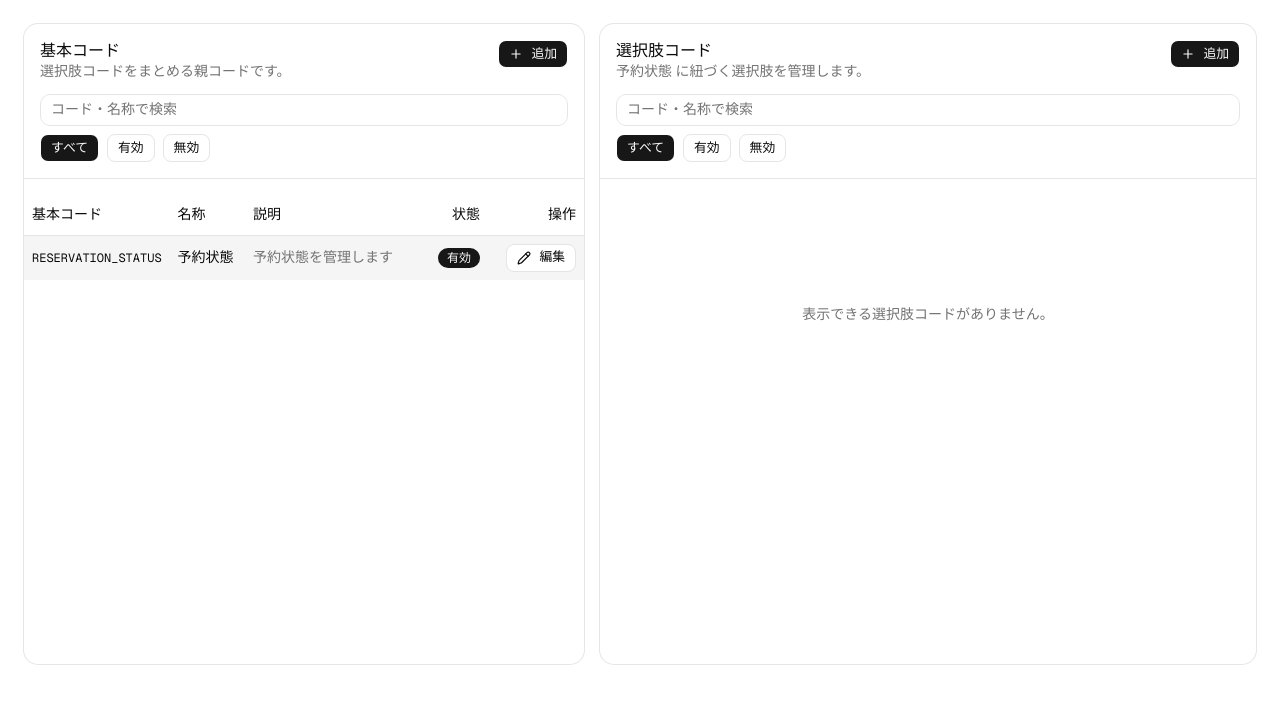
Scenario: StandardCodeMasterPage › 基本コードの保存に失敗すると、エラーを表示する
Expected: the text "予約状態" is shown, [178,248,237,268]
Step 1. Click the button "追加" in the row of "選択肢コードをまとめる親コードです。" → (533, 54), box [498,40,568,68]
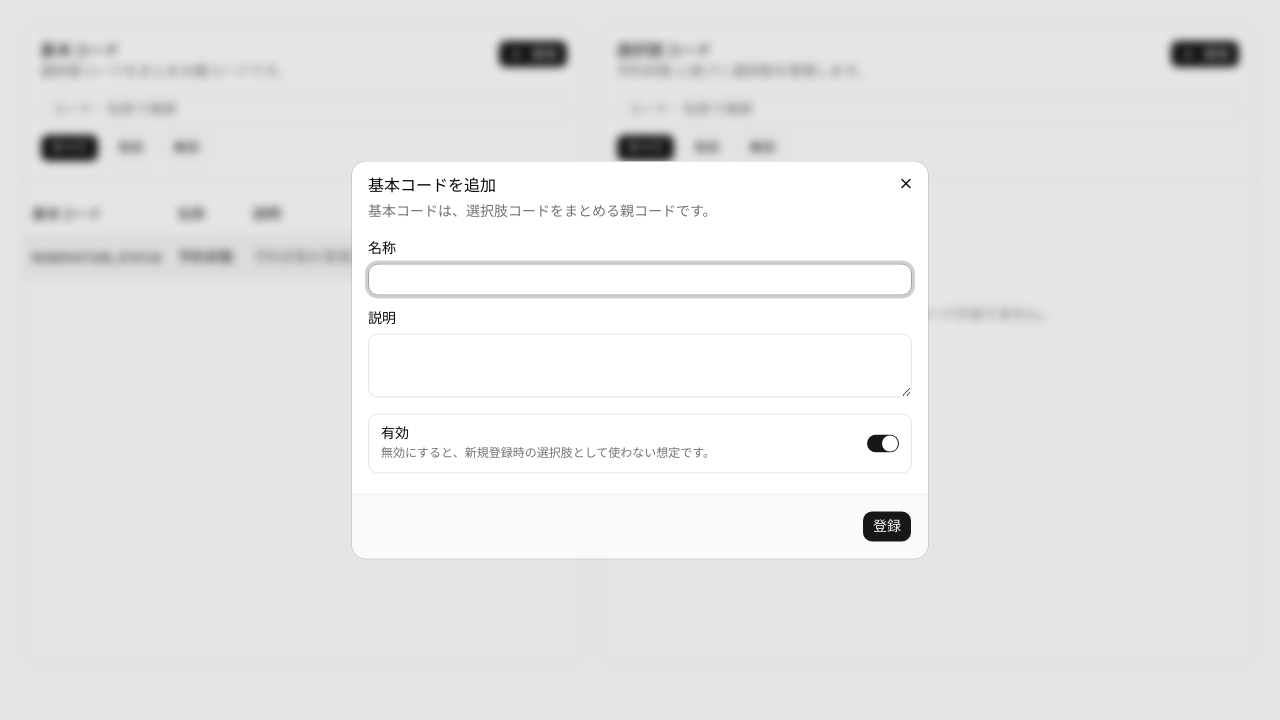
Step 2. Type "支払方法" into the field labelled "名称" → (640, 280), box [368,264,912,296]
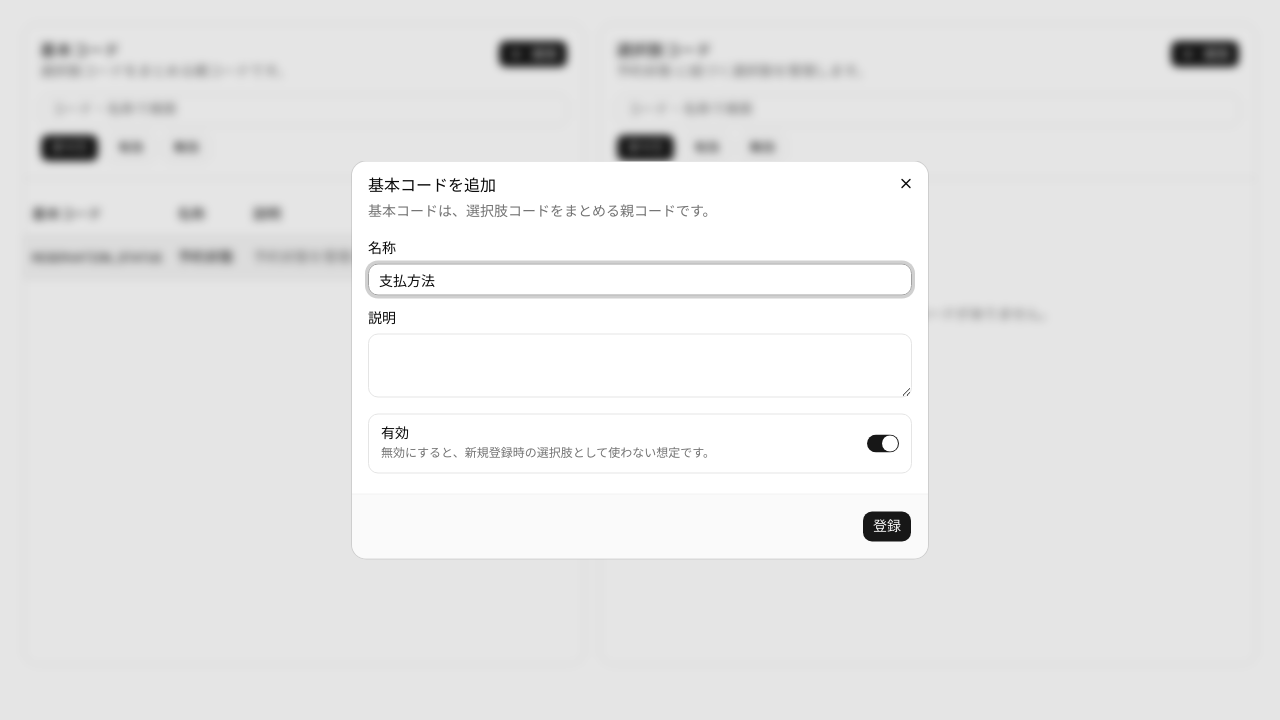
Step 3. Click the button "登録" → (887, 526), box [862,510,912,542]
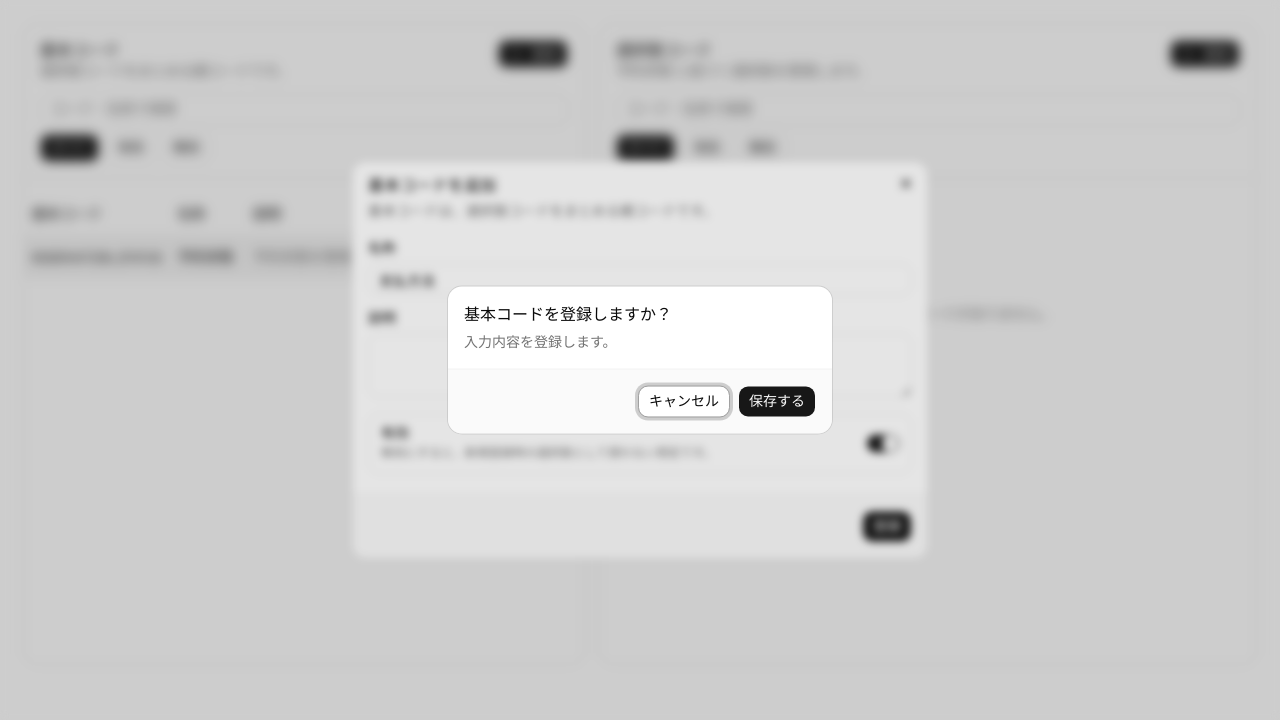
Expected: the heading "基本コードを登録しますか？" is shown, [464,302,672,326]
Step 4. Click the button "保存する" → (777, 402), box [738,386,816,418]
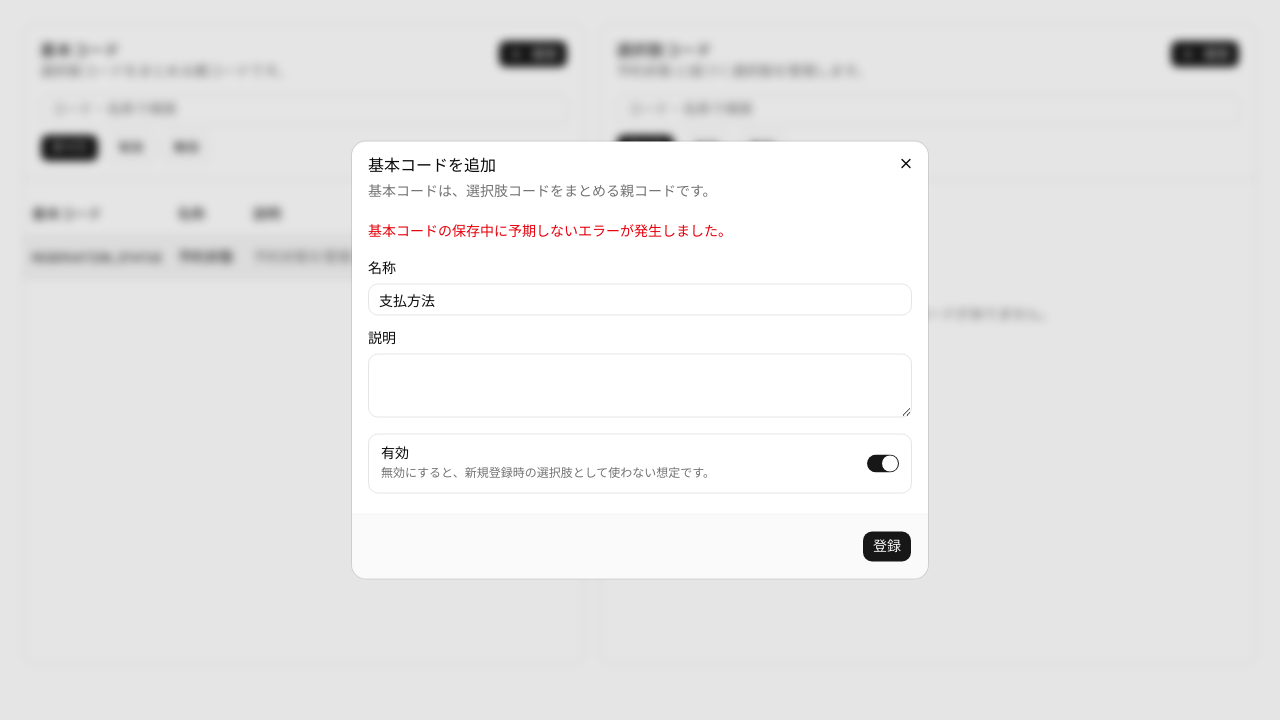
Expected: the message reads "基本コードの保存中に予期しないエラーが発生しました。", [368,224,732,238]
